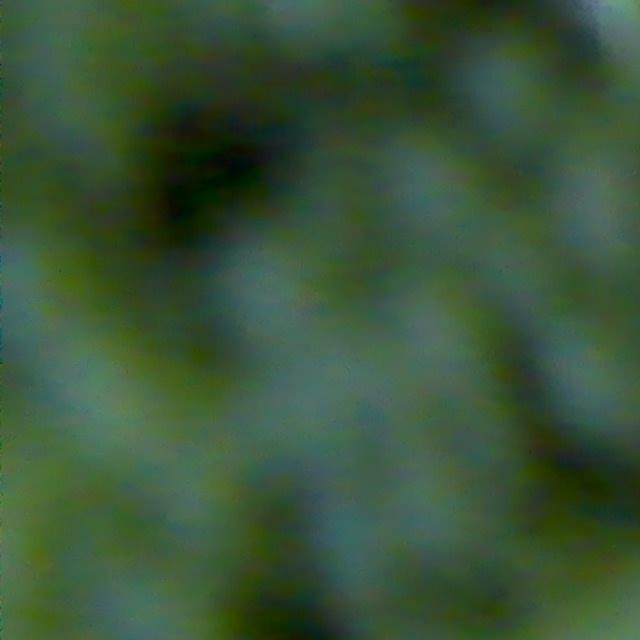SeaGrape: (453, 28, 565, 146)
